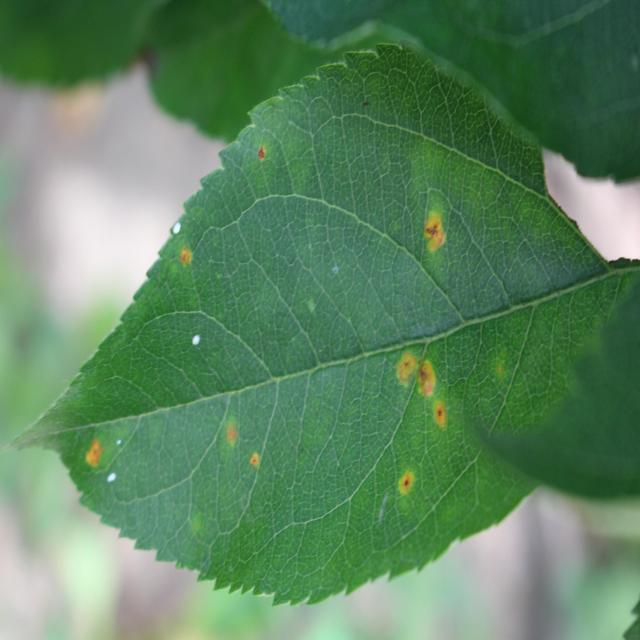rust: (4, 43, 638, 609)
